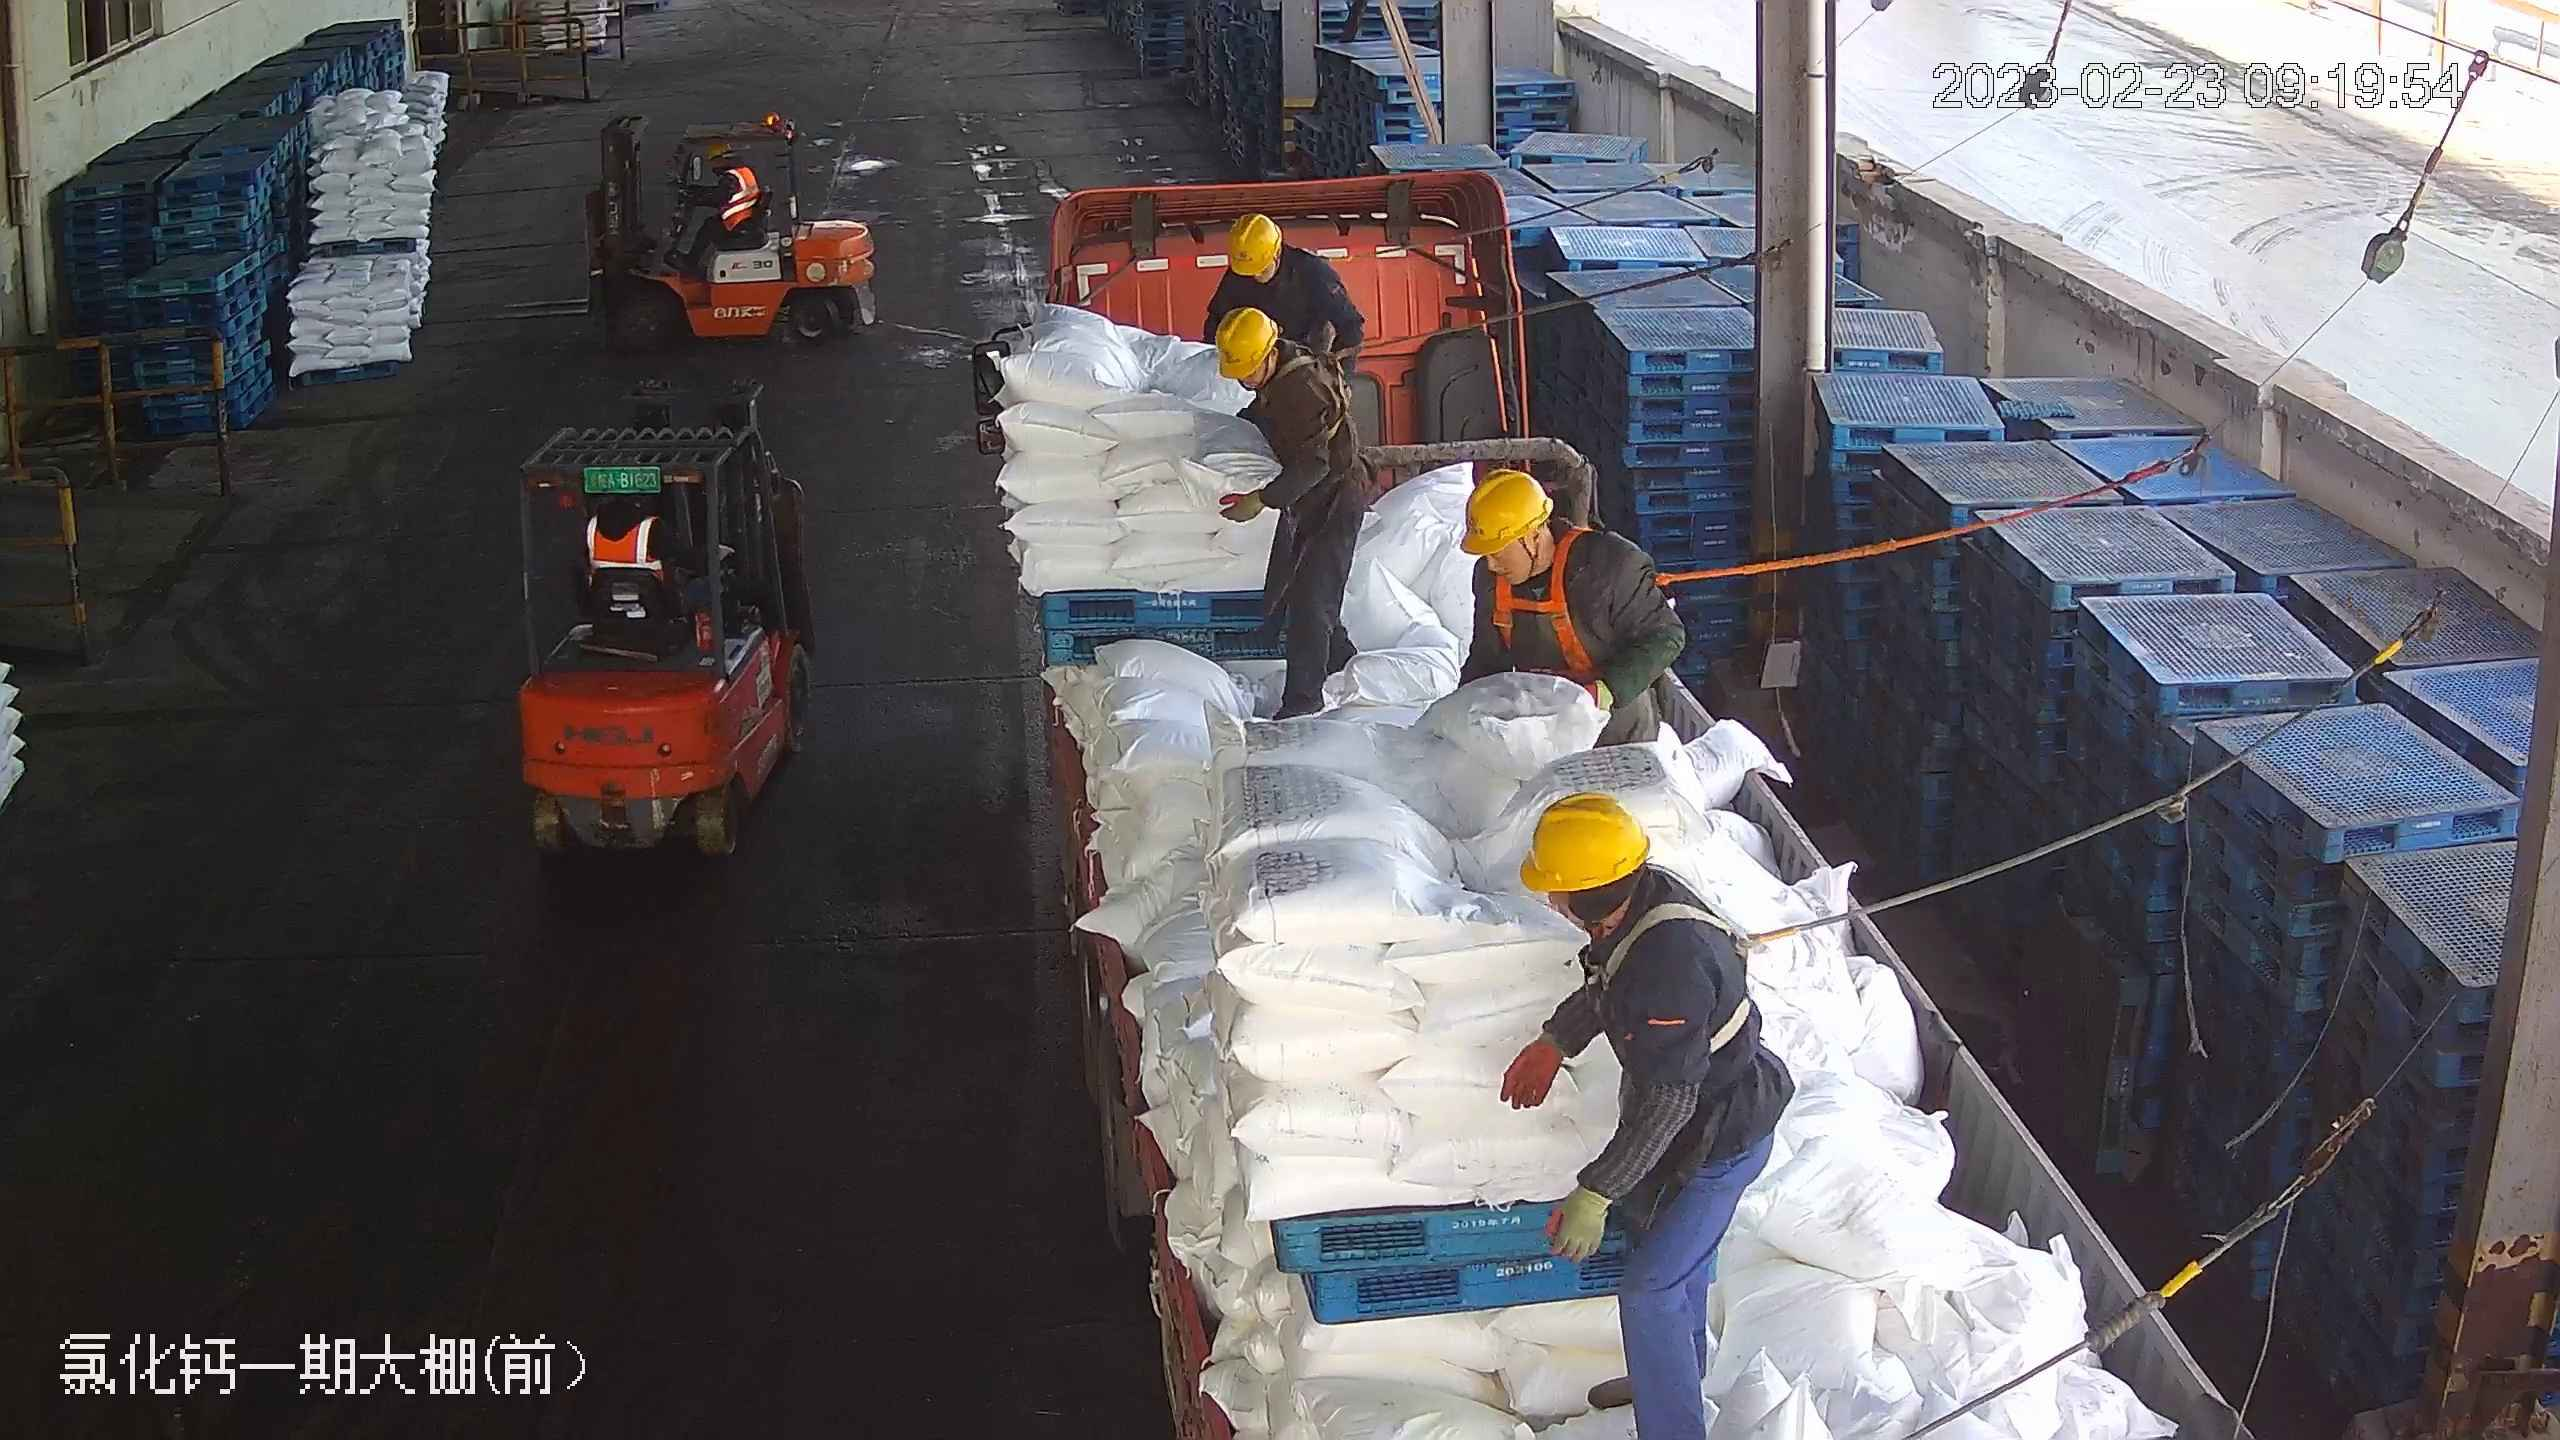belt: (1586, 878, 1790, 1051), (1499, 525, 1687, 681), (1264, 343, 1376, 441), (1311, 248, 1369, 270)
head: (1518, 788, 1733, 1003), (1461, 467, 1644, 625), (1209, 305, 1337, 421), (1216, 211, 1331, 307), (705, 142, 753, 194)
helmet: (1520, 787, 1651, 890), (1461, 467, 1552, 555), (1213, 306, 1275, 378), (1225, 211, 1280, 276), (705, 142, 732, 160)
people: (1502, 790, 1793, 1433), (1208, 308, 1373, 720), (679, 140, 759, 263)
truck: (987, 170, 2253, 1424)
